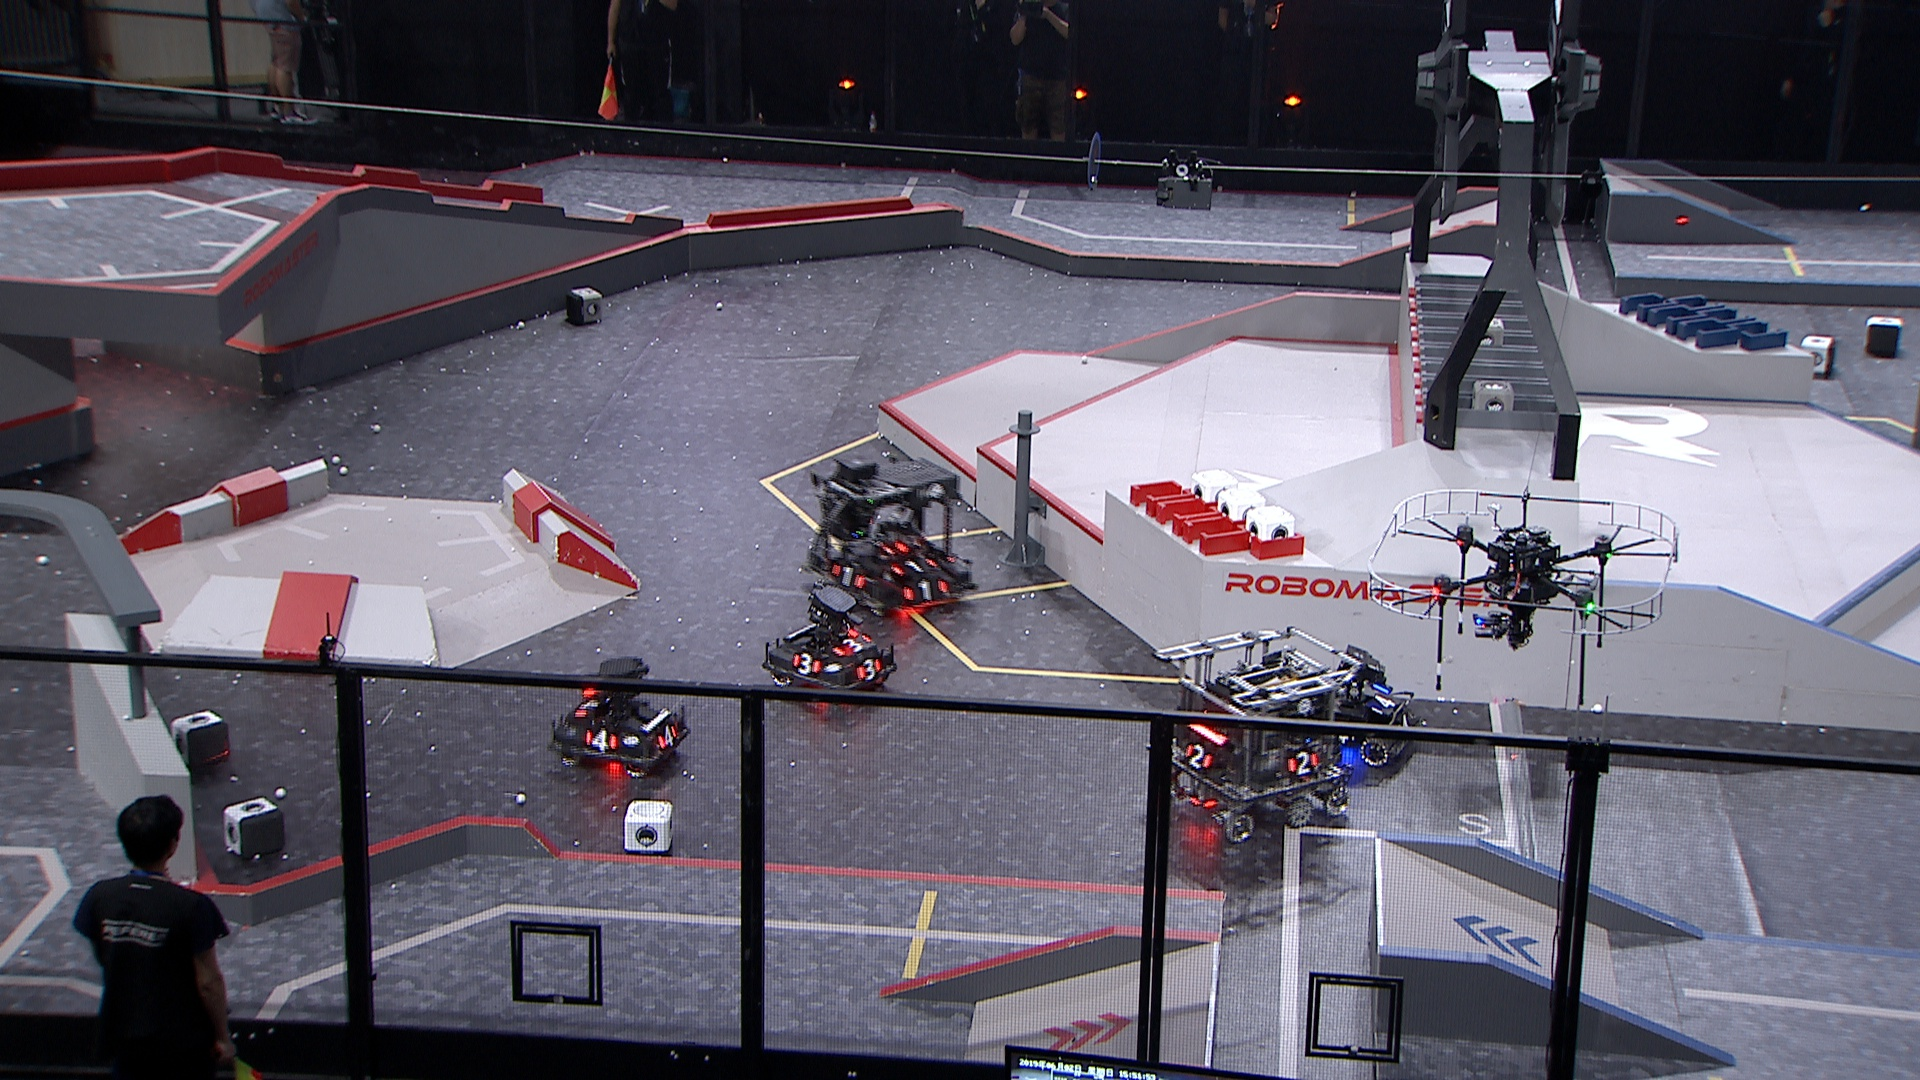armor: (827, 562, 868, 591), (584, 727, 622, 757), (1284, 750, 1321, 777), (905, 580, 945, 604), (1182, 742, 1215, 771), (789, 651, 825, 676), (832, 633, 873, 655), (572, 694, 603, 719), (855, 655, 884, 679), (887, 559, 938, 572), (1370, 692, 1400, 712), (655, 723, 680, 746), (1394, 709, 1416, 732)
car: (1153, 622, 1362, 844), (802, 452, 978, 618), (547, 655, 698, 781), (761, 588, 898, 704), (1298, 647, 1423, 766)
